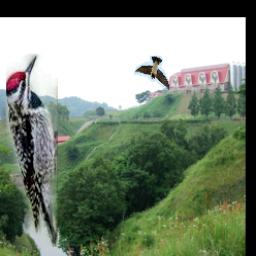Swallow: (134, 56, 169, 92)
Woodpecker: (6, 55, 58, 248)
